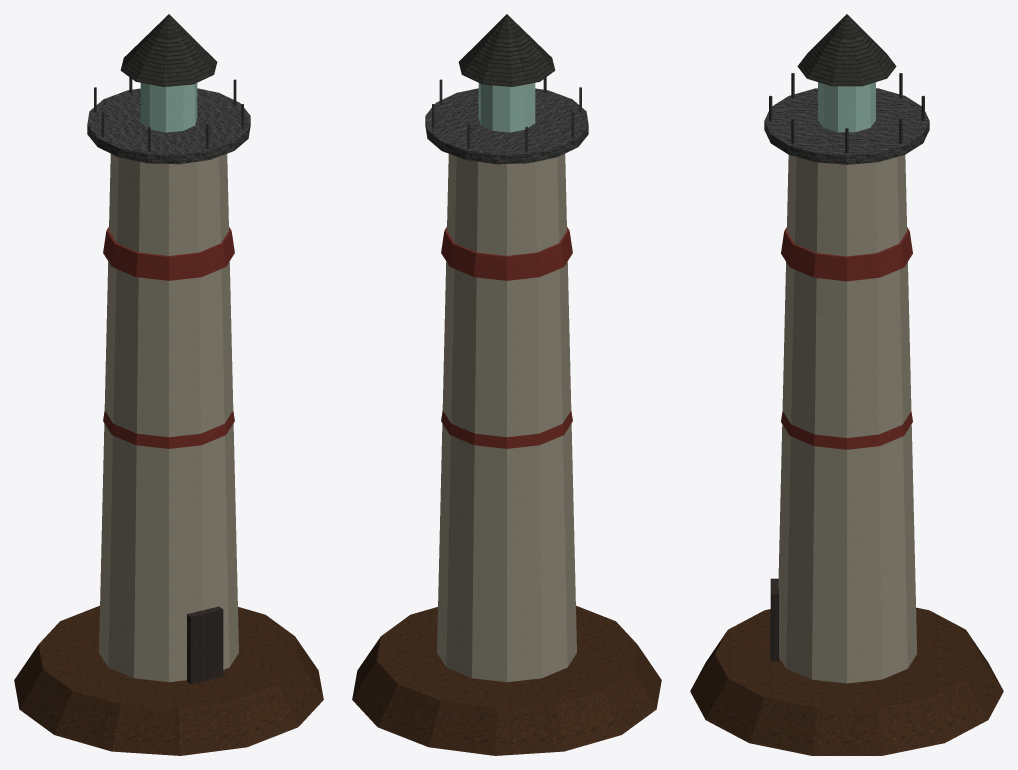
The model's file is sunken_lighthouse_01.glb.
3 renders of one model, left to right at view 1: azimuth 30°, elevation 25°; view 2: azimuth 150°, elevation 25°; view 3: azimuth 270°, elevation 25°, orthographic.
Visible parts, largest first — view 1: sunken_lighthouse_01; view 2: sunken_lighthouse_01; view 3: sunken_lighthouse_01.
Part boxes in pixels (<box>): sunken_lighthouse_01: <box>14,14,323,755</box>; sunken_lighthouse_01: <box>352,14,661,755</box>; sunken_lighthouse_01: <box>690,14,1003,755</box>.
Size of the model in its own units: 7.41 by 18.1 by 7.6.
8 materials, 8 textured.
